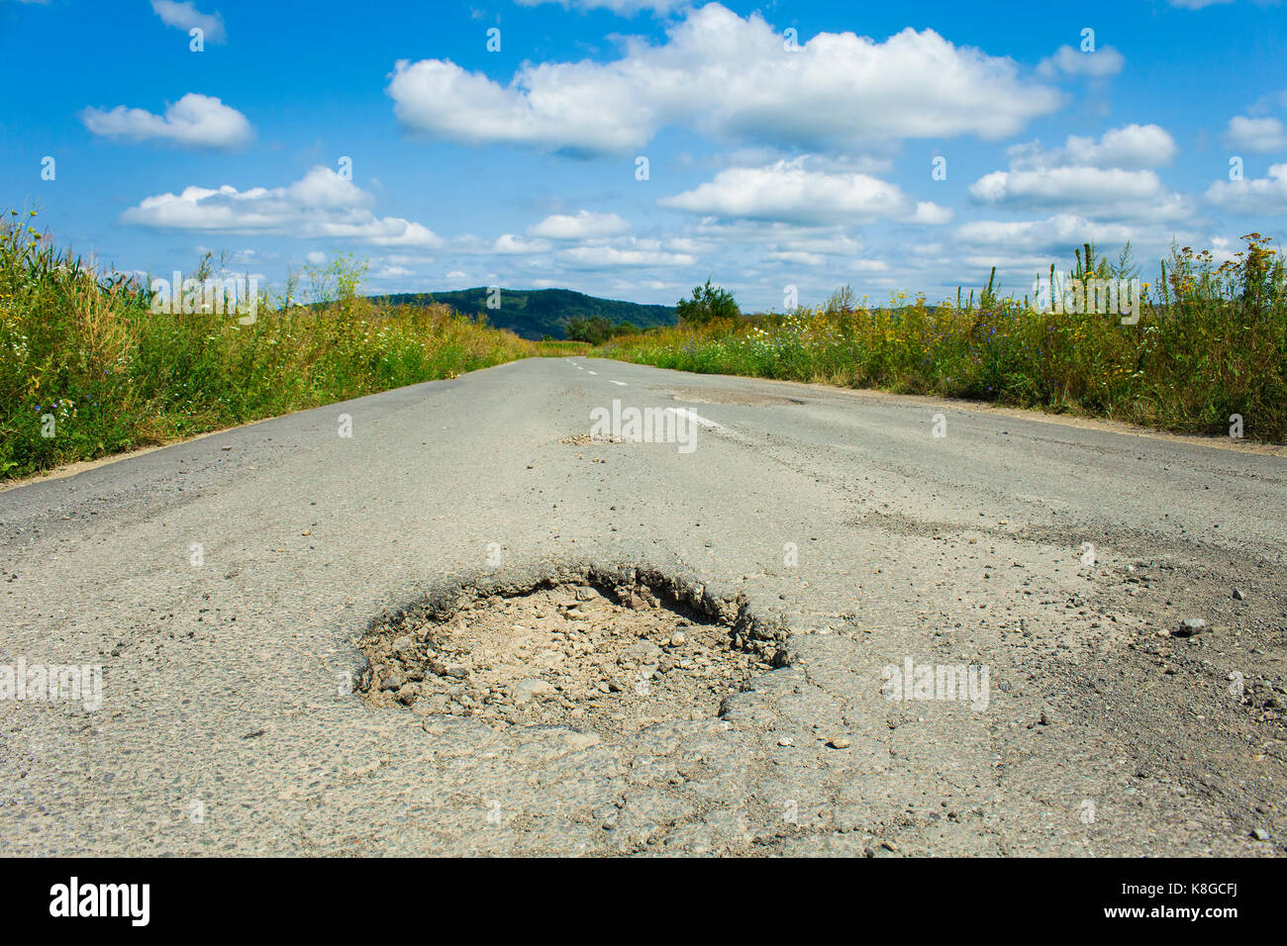Hole_in_the_road: (324, 541, 828, 774)
